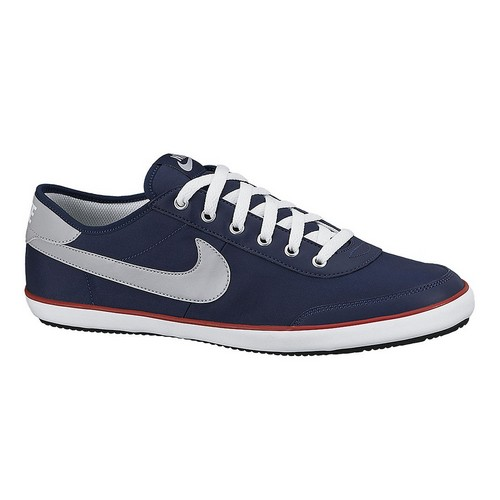nike: (35, 237, 235, 308)
